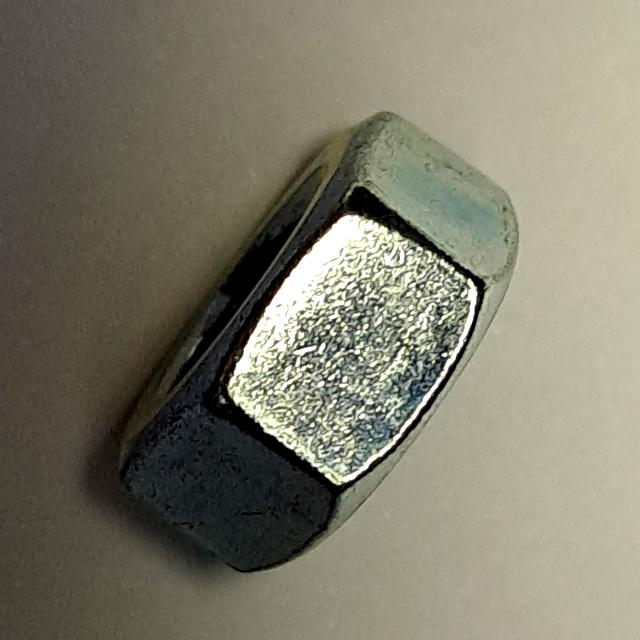Side_Excellent: (109, 89, 528, 590)
